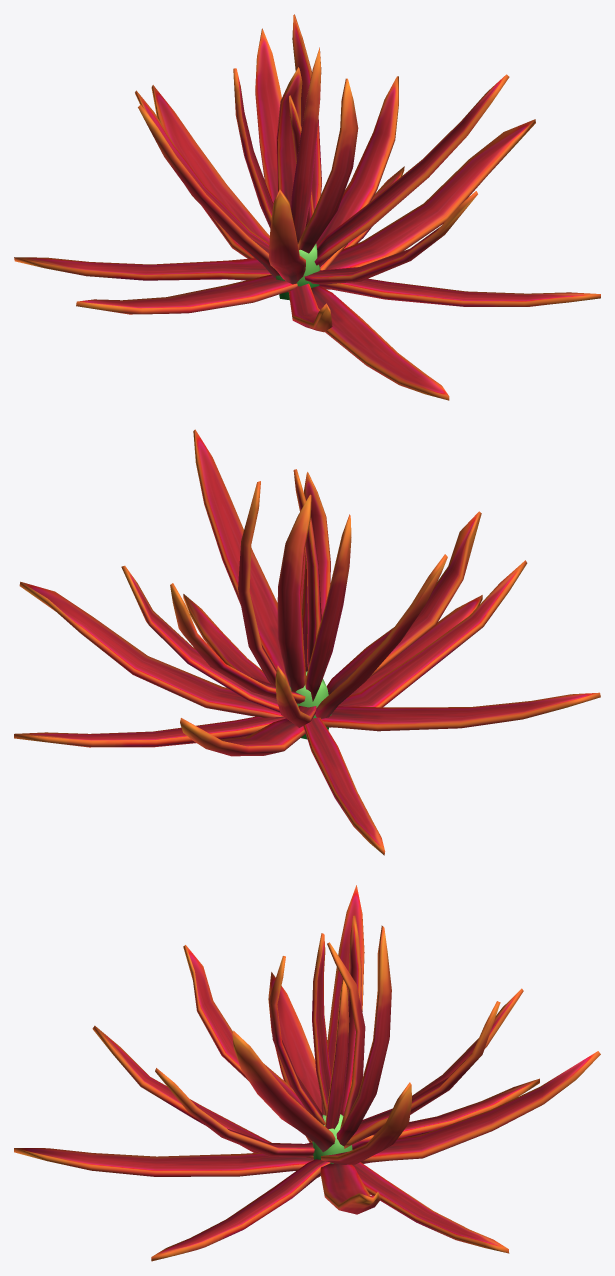
Rendered from pick rouge .fbx.
3 views of the same model, one above another, from view 1: azimuth 30°, elevation 25°; view 2: azimuth 150°, elevation 25°; view 3: azimuth 270°, elevation 25° (orthographic). The views are drawn at different scales.
Visible parts, largest first — view 1: LangeAloe_Normal_Muster.001; view 2: LangeAloe_Normal_Muster.001; view 3: LangeAloe_Normal_Muster.001.
Part boxes in pixels (<box>): LangeAloe_Normal_Muster.001: <box>14,14,600,400</box>; LangeAloe_Normal_Muster.001: <box>14,429,600,855</box>; LangeAloe_Normal_Muster.001: <box>14,885,600,1261</box>.
Size of the model in its own units: 666 by 327 by 666.
